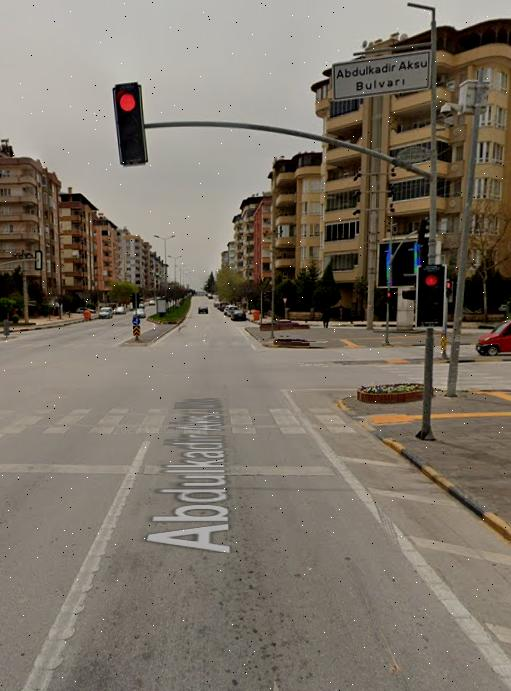redlight: (112, 82, 147, 168), (417, 262, 449, 329)
